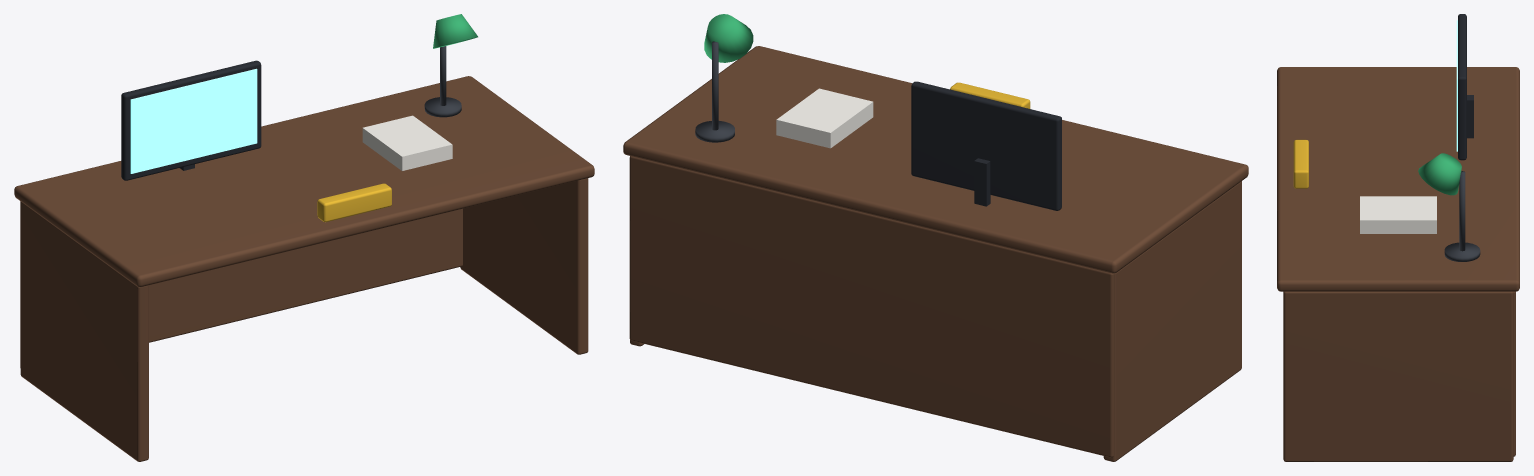
File: ManagerDesk.fbx
The picture shows the model from 3 angles, left to right: view 1: azimuth 30°, elevation 25°; view 2: azimuth 150°, elevation 25°; view 3: azimuth 270°, elevation 25°; orthographic projection. The views are drawn at different scales.
Parts seen in each view (by area): view 1: ManagerDeskBody, Screen; view 2: ManagerDeskBody; view 3: ManagerDeskBody, Screen.
Part boxes in pixels (x1,y1,x2,y2): ManagerDeskBody: (14, 14, 594, 461); Screen: (130, 68, 257, 173); ManagerDeskBody: (623, 14, 1248, 461); ManagerDeskBody: (1277, 14, 1519, 461); Screen: (1456, 20, 1457, 151).
Size of the model in its own units: 2 by 1.22 by 0.95.
